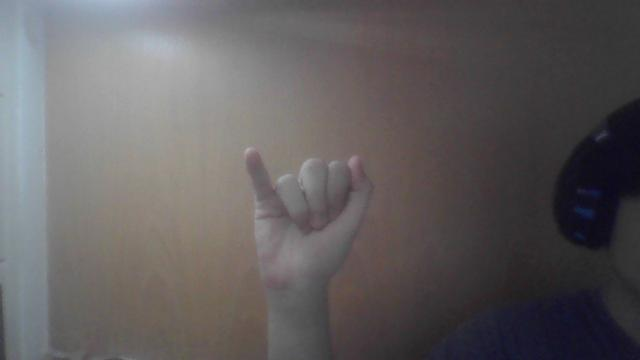Right: (234, 144, 374, 286)
